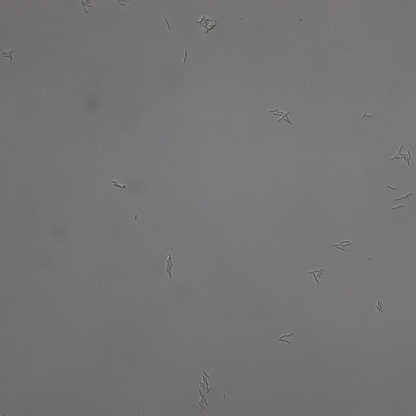R(colony): (390, 145, 412, 166), (269, 108, 292, 125), (197, 370, 215, 391), (309, 266, 324, 285), (196, 391, 208, 413), (332, 239, 351, 251), (278, 332, 296, 344)
